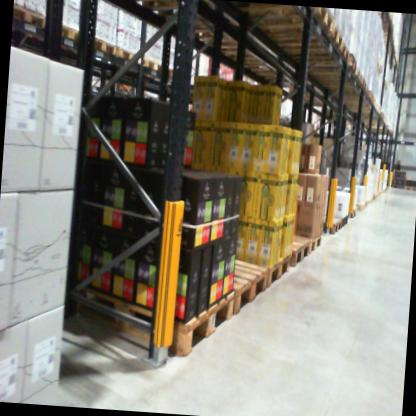pallet: (63, 270, 236, 358), (233, 2, 336, 43), (216, 246, 269, 319), (277, 19, 346, 55), (128, 0, 203, 26), (293, 39, 352, 67), (302, 48, 357, 76), (259, 250, 294, 292), (276, 229, 310, 268), (13, 1, 55, 32), (54, 20, 90, 52), (139, 54, 169, 78), (114, 45, 145, 68), (89, 36, 118, 57), (321, 215, 342, 236), (305, 231, 325, 253), (338, 214, 349, 231), (347, 206, 356, 219), (392, 183, 406, 191), (404, 185, 416, 191)
